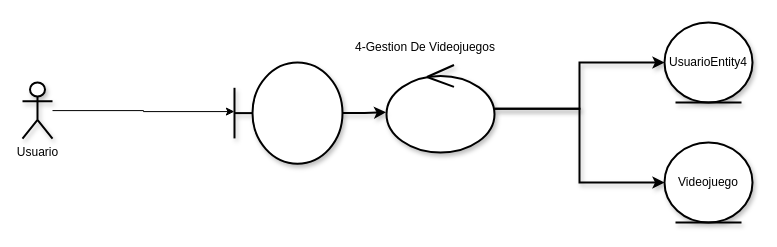
This 777x247 diagram has some shape labels left out. The centre of each missing label's shape, as x and y in pixels:
"VideojuegoAction" goes at (x=441, y=110).
"VideojuegoUi" goes at (x=289, y=114).
